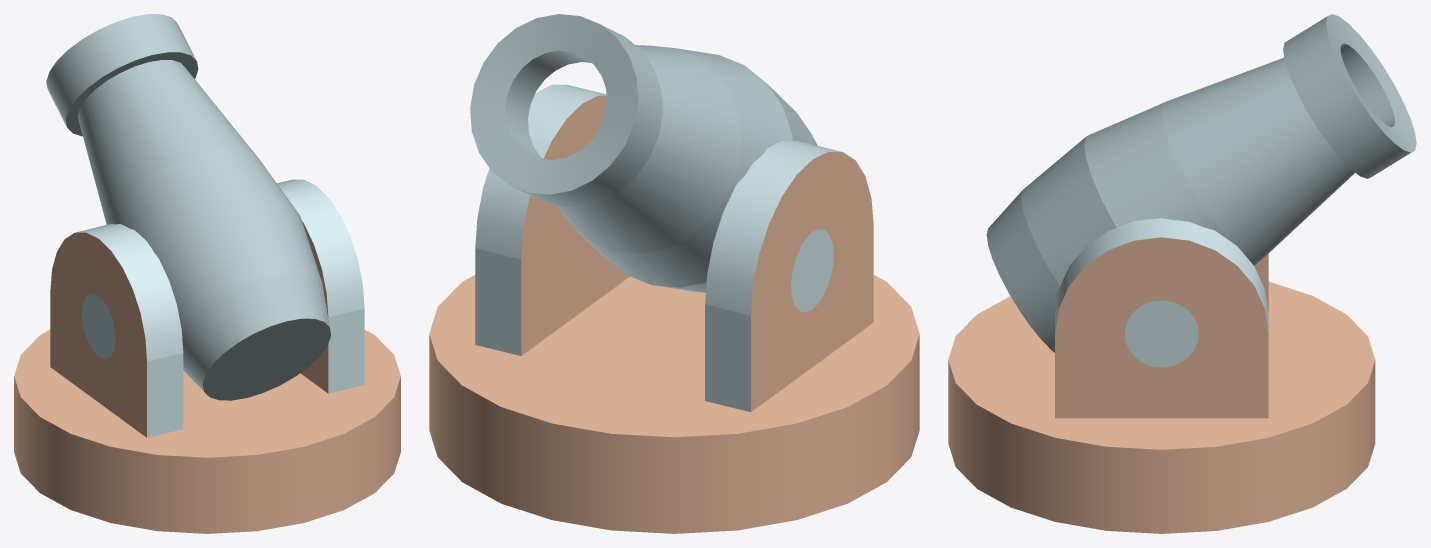
Rendered from canon.glb.
3 renders of one model, left to right at view 1: azimuth 30°, elevation 25°; view 2: azimuth 150°, elevation 25°; view 3: azimuth 270°, elevation 25°, orthographic. The views are drawn at different scales.
Visible parts, largest first — view 1: weapon_cannon, cannon.001; view 2: weapon_cannon, cannon.001; view 3: weapon_cannon, cannon.001.
Part boxes in pixels (bbox=[...]): weapon_cannon: bbox=[14, 179, 400, 533]; cannon.001: bbox=[46, 14, 330, 400]; weapon_cannon: bbox=[429, 84, 919, 533]; cannon.001: bbox=[470, 14, 817, 292]; weapon_cannon: bbox=[948, 218, 1375, 533]; cannon.001: bbox=[986, 14, 1416, 352].
Size of the model in its own units: 0.4598 by 0.5001 by 0.5043.
